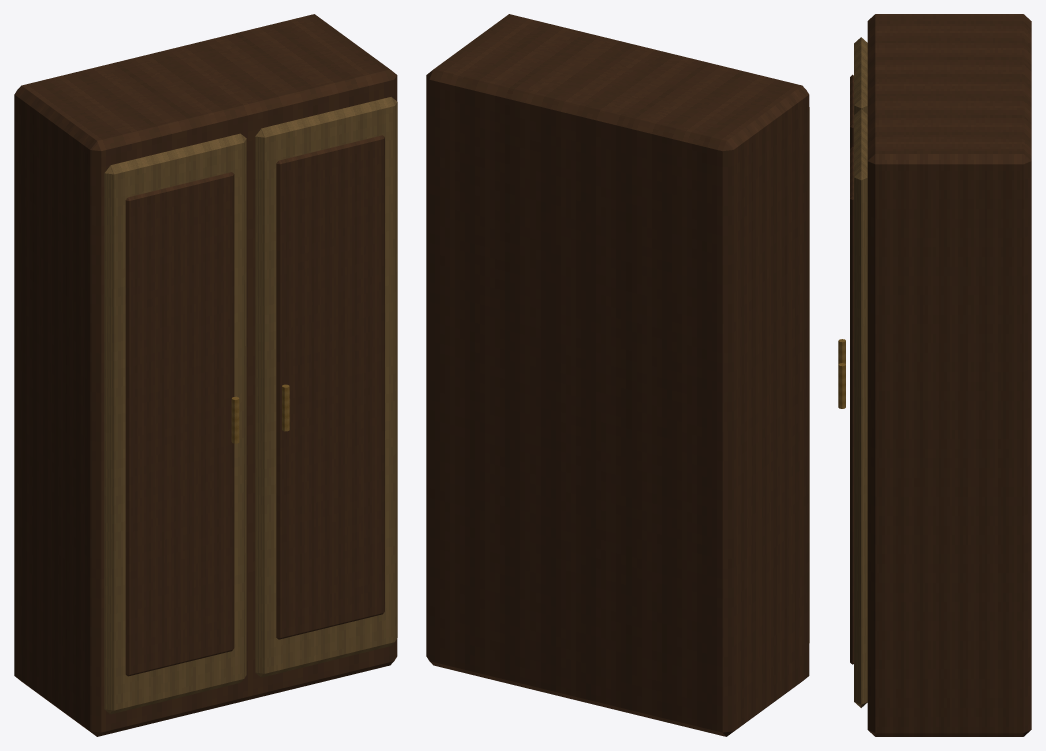
The model's file is level_lived_linen_press.glb.
3 renders of one model, left to right at view 1: azimuth 30°, elevation 25°; view 2: azimuth 150°, elevation 25°; view 3: azimuth 270°, elevation 25°, orthographic. The views are drawn at different scales.
Visible parts, largest first — view 1: level_lived_linen_press; view 2: level_lived_linen_press; view 3: level_lived_linen_press.
Boxes of the visible parts, <box> form: level_lived_linen_press: <box>14,14,397,736</box>; level_lived_linen_press: <box>426,14,809,736</box>; level_lived_linen_press: <box>838,14,1031,736</box>.
Size of the model in its own units: 1.1 by 2.04 by 0.612.
3 materials, 3 textured.
